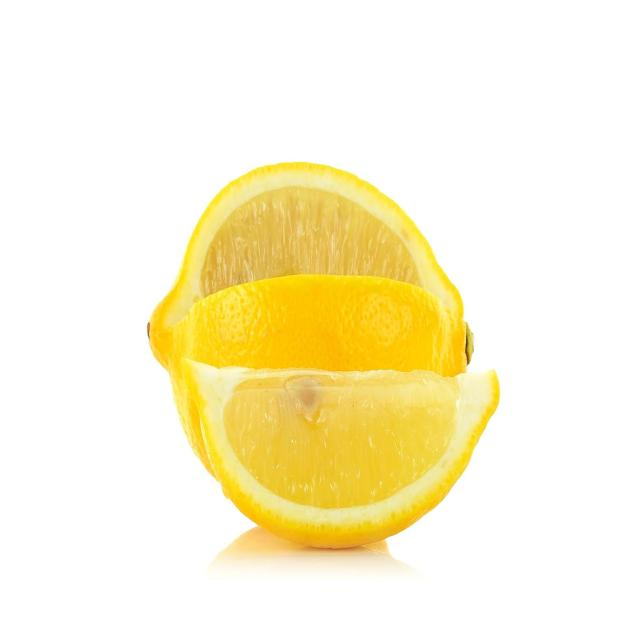lemon: (143, 152, 502, 554)
